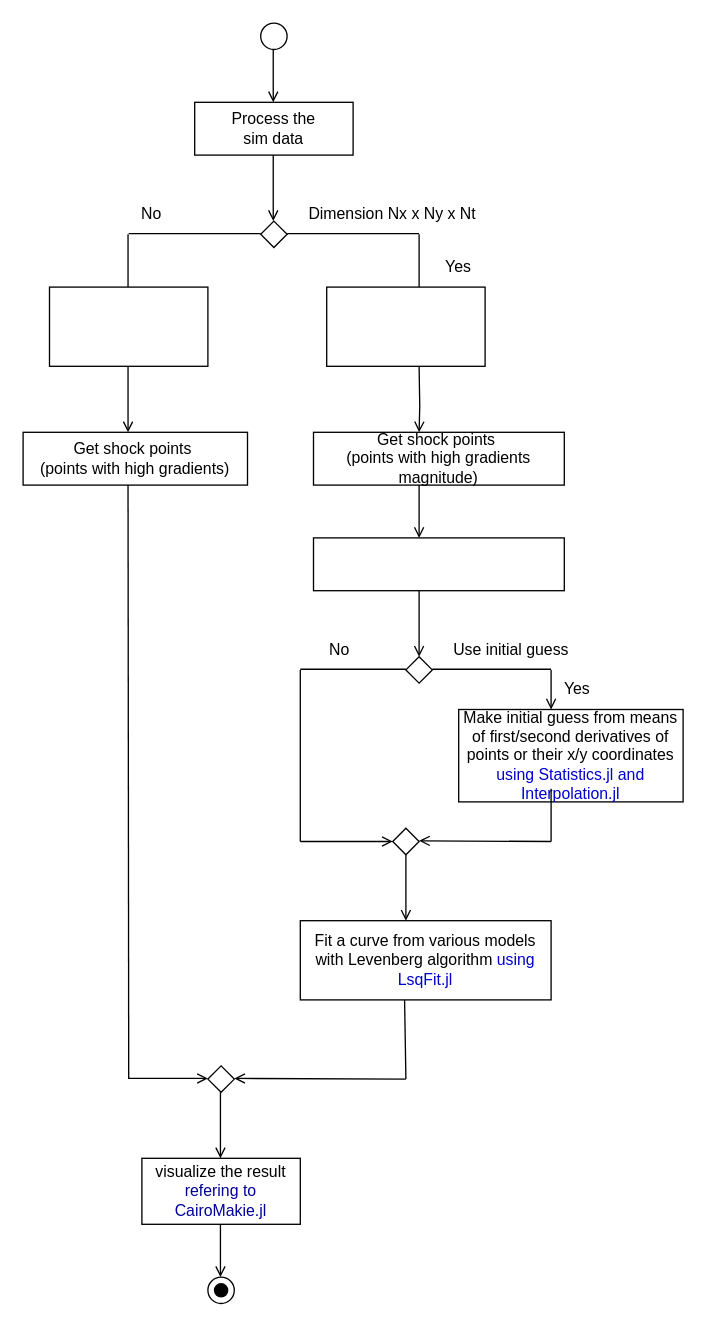
This 706x1327 diagram has some shape labels left out. The centre of each missing label's shape, as x and y in pixels:
Calculate gradient with FD using ImageFitting.jl: [405,326]
Calculate gradient with interpolation using Interpolations.jl: [128,326]
Cluster shock points: [438,564]
